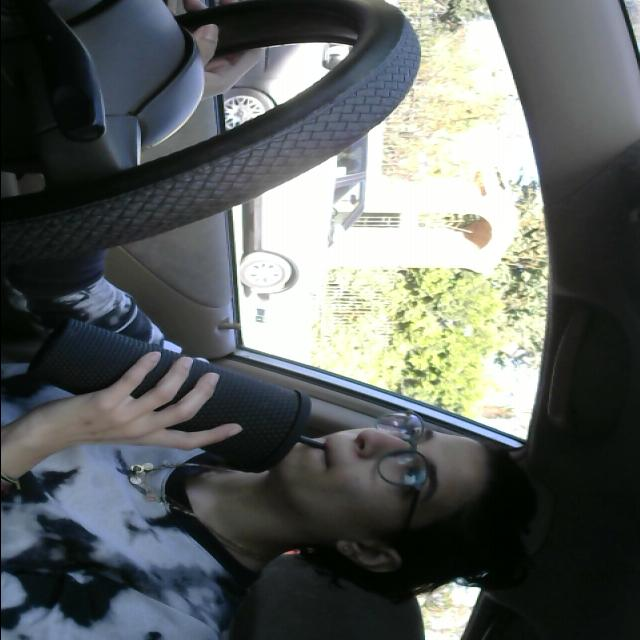drinking: (35, 314, 342, 472)
